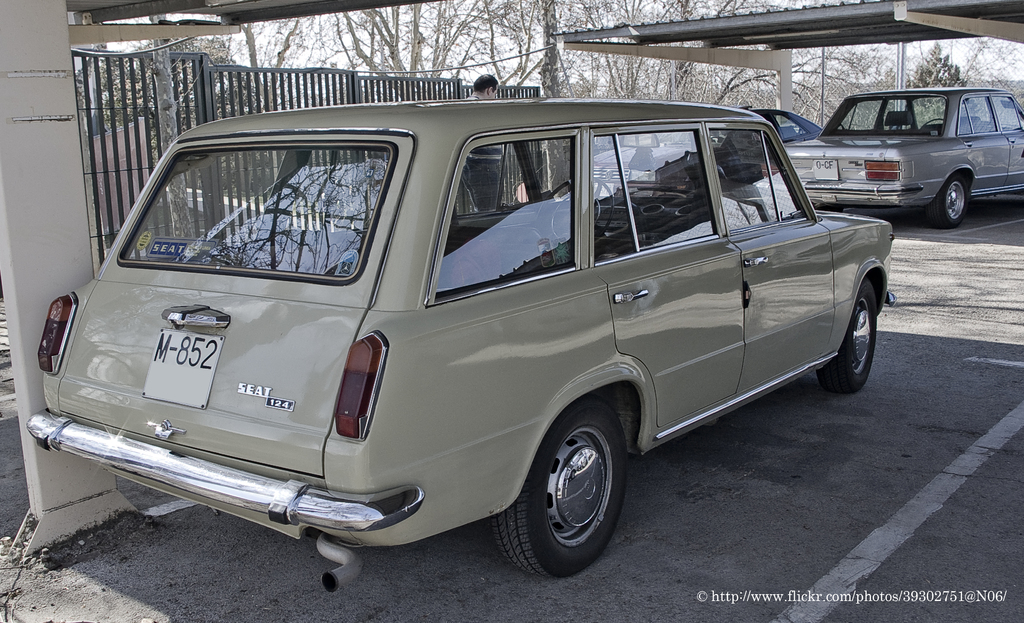Car: (24, 96, 897, 580), (781, 79, 1022, 226), (596, 106, 823, 183)
